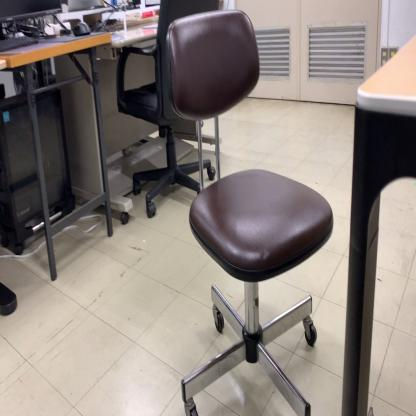chair: (165, 8, 334, 416), (114, 0, 220, 220)
